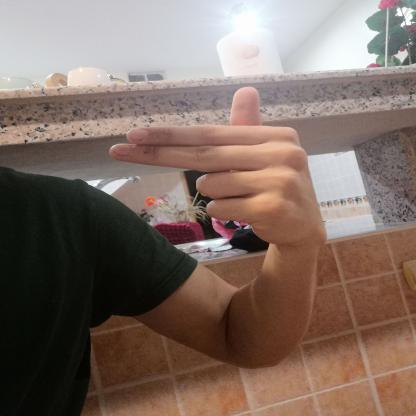GHAYN: (100, 76, 342, 256)
